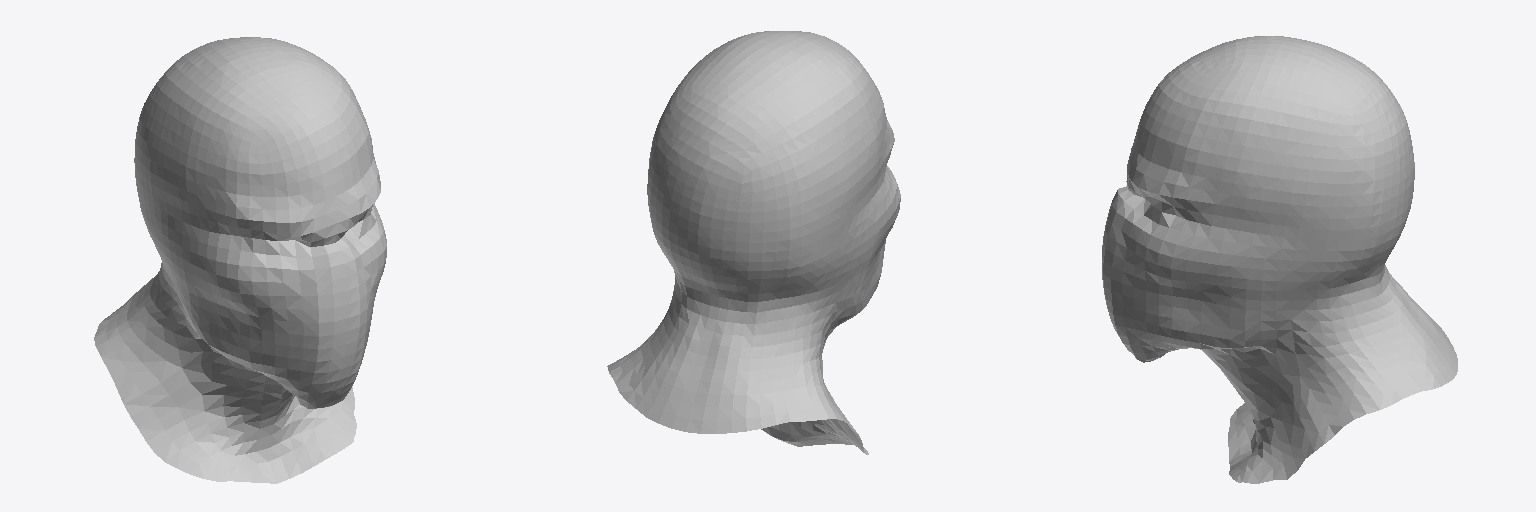
Rendered from ninja1.obj.
3 renders of one model, left to right at view 1: azimuth 30°, elevation 25°; view 2: azimuth 150°, elevation 25°; view 3: azimuth 270°, elevation 25°, orthographic.
Bounding box in the file's own units: 0.5654 × 1 × 0.7761.